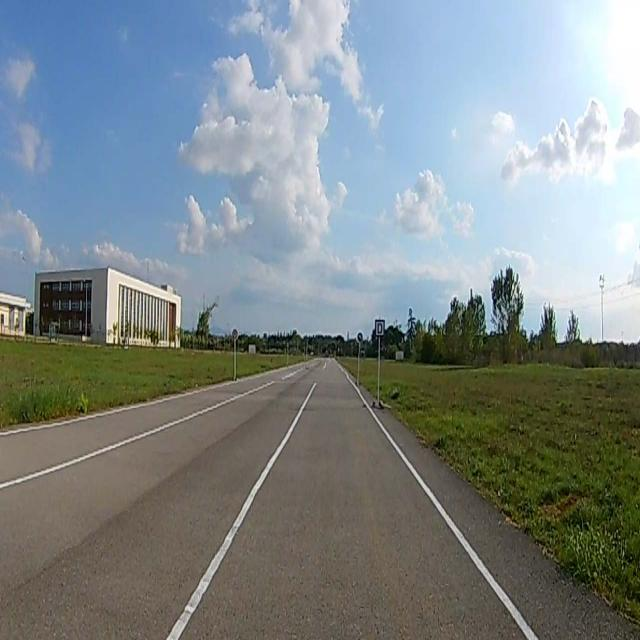durak: (374, 321, 386, 339)
